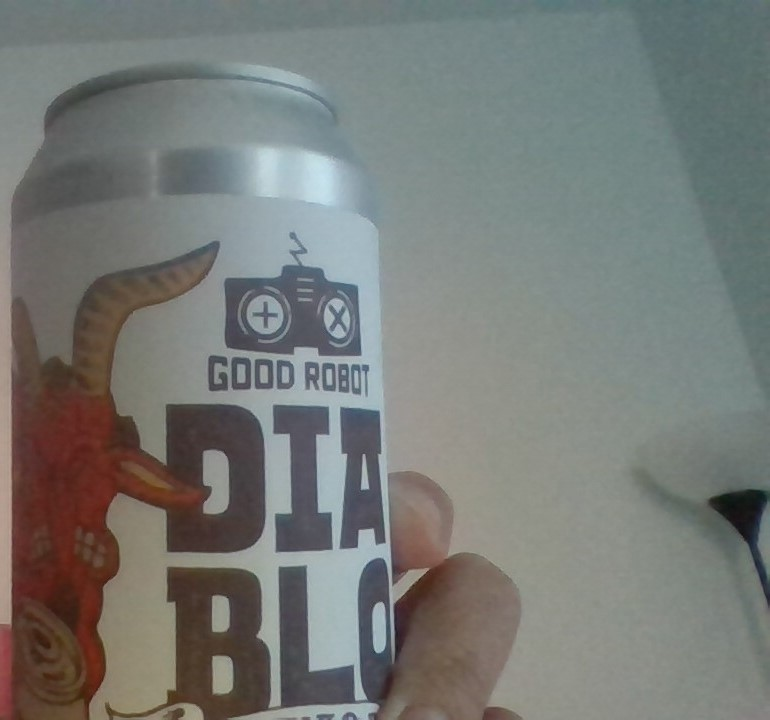Good Robot: (222, 229, 384, 358)
